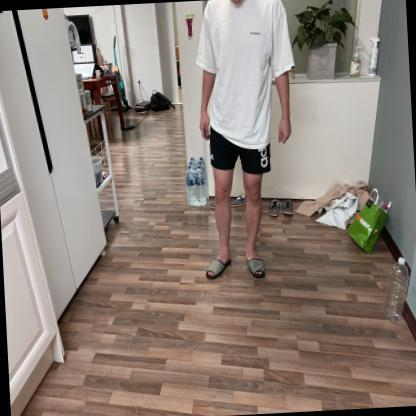no_safety-shoe: (203, 245, 239, 287), (242, 246, 272, 285)
